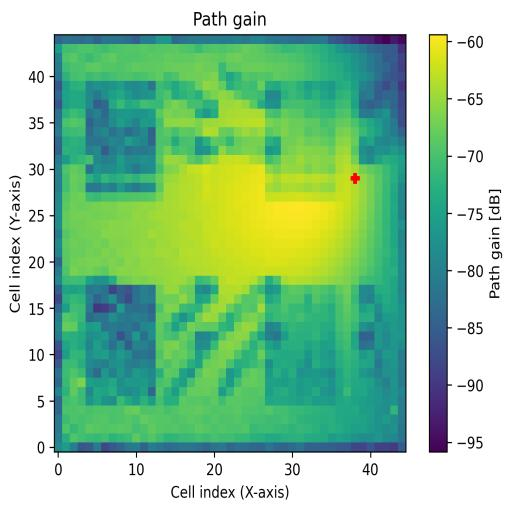Concrete: (266, 82, 336, 192)
Glass: (85, 82, 155, 192)
Metal: (266, 285, 336, 406)
Wood: (86, 285, 156, 406)
